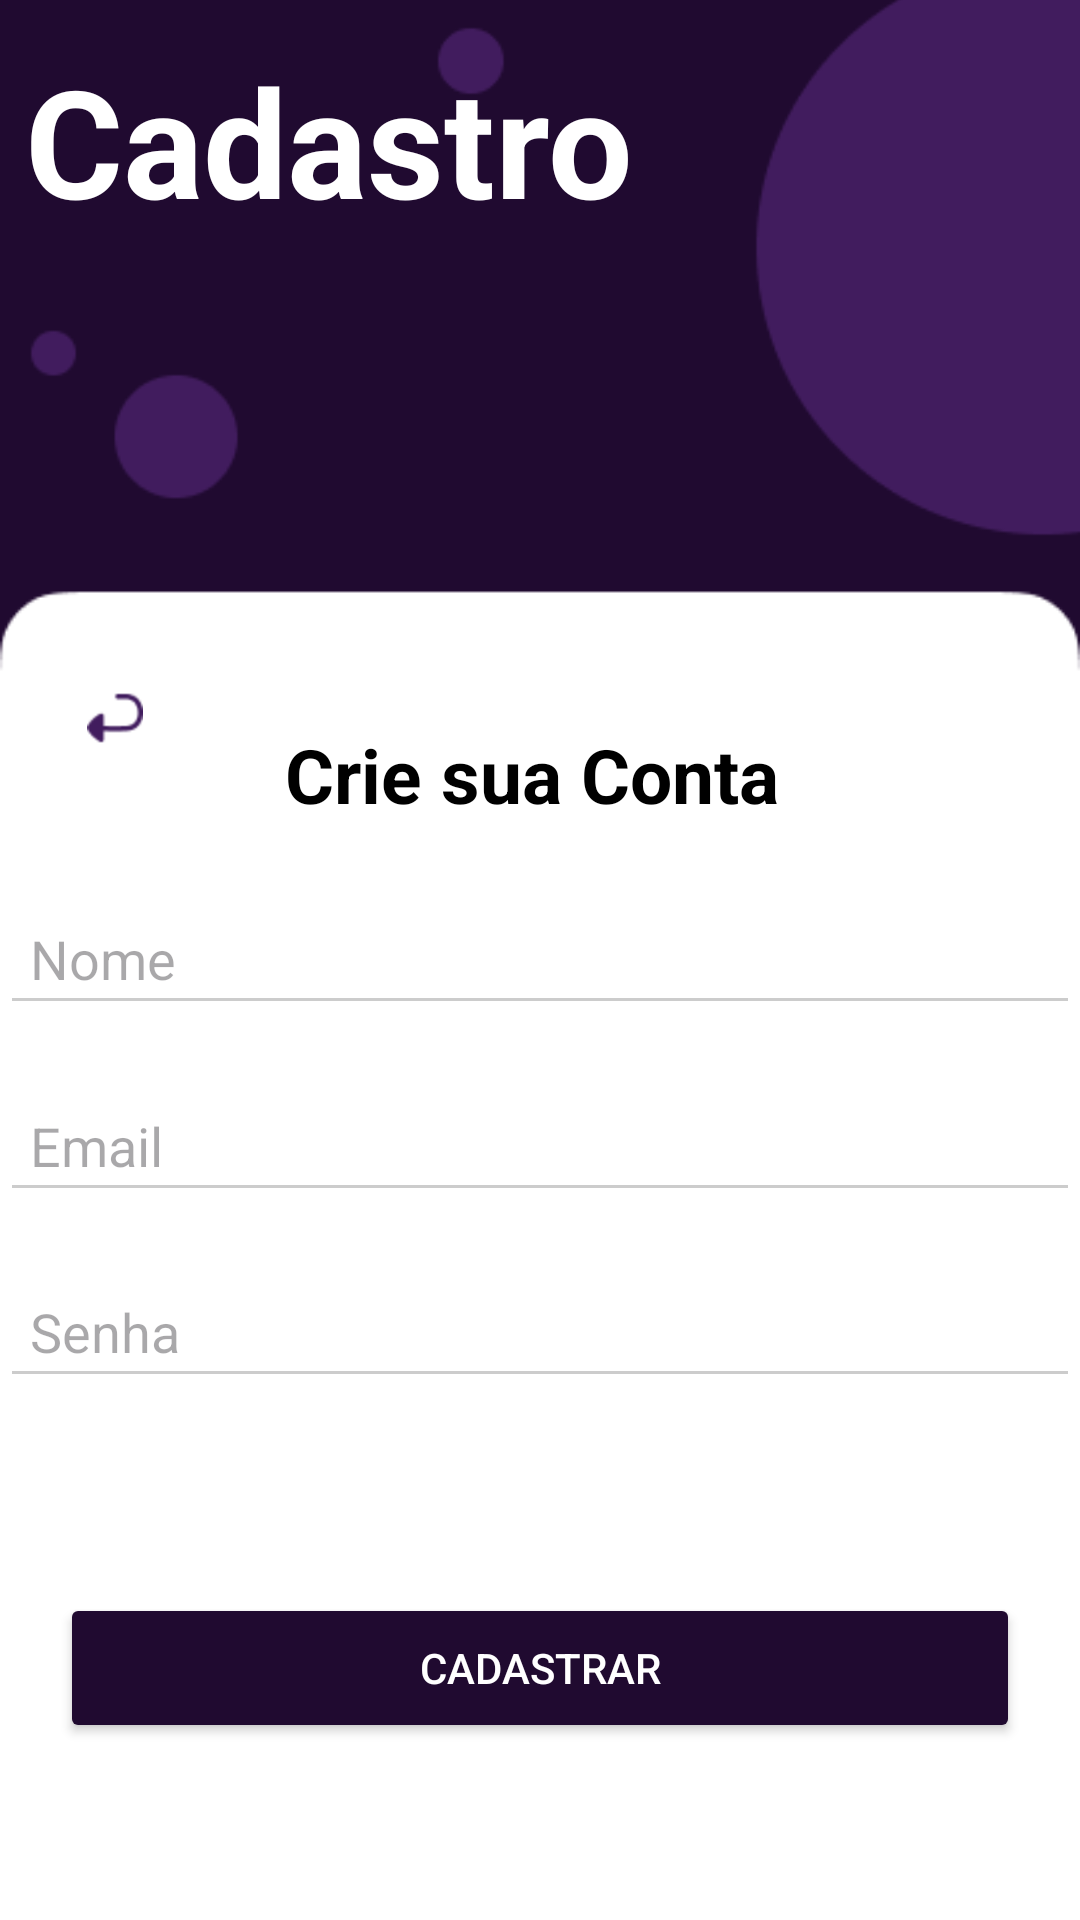

Named icons in this screenshot (1080×1920) and their bounding boxes, (x1, y1, x2, y2):
seta pa volta: (87, 693, 143, 743)
